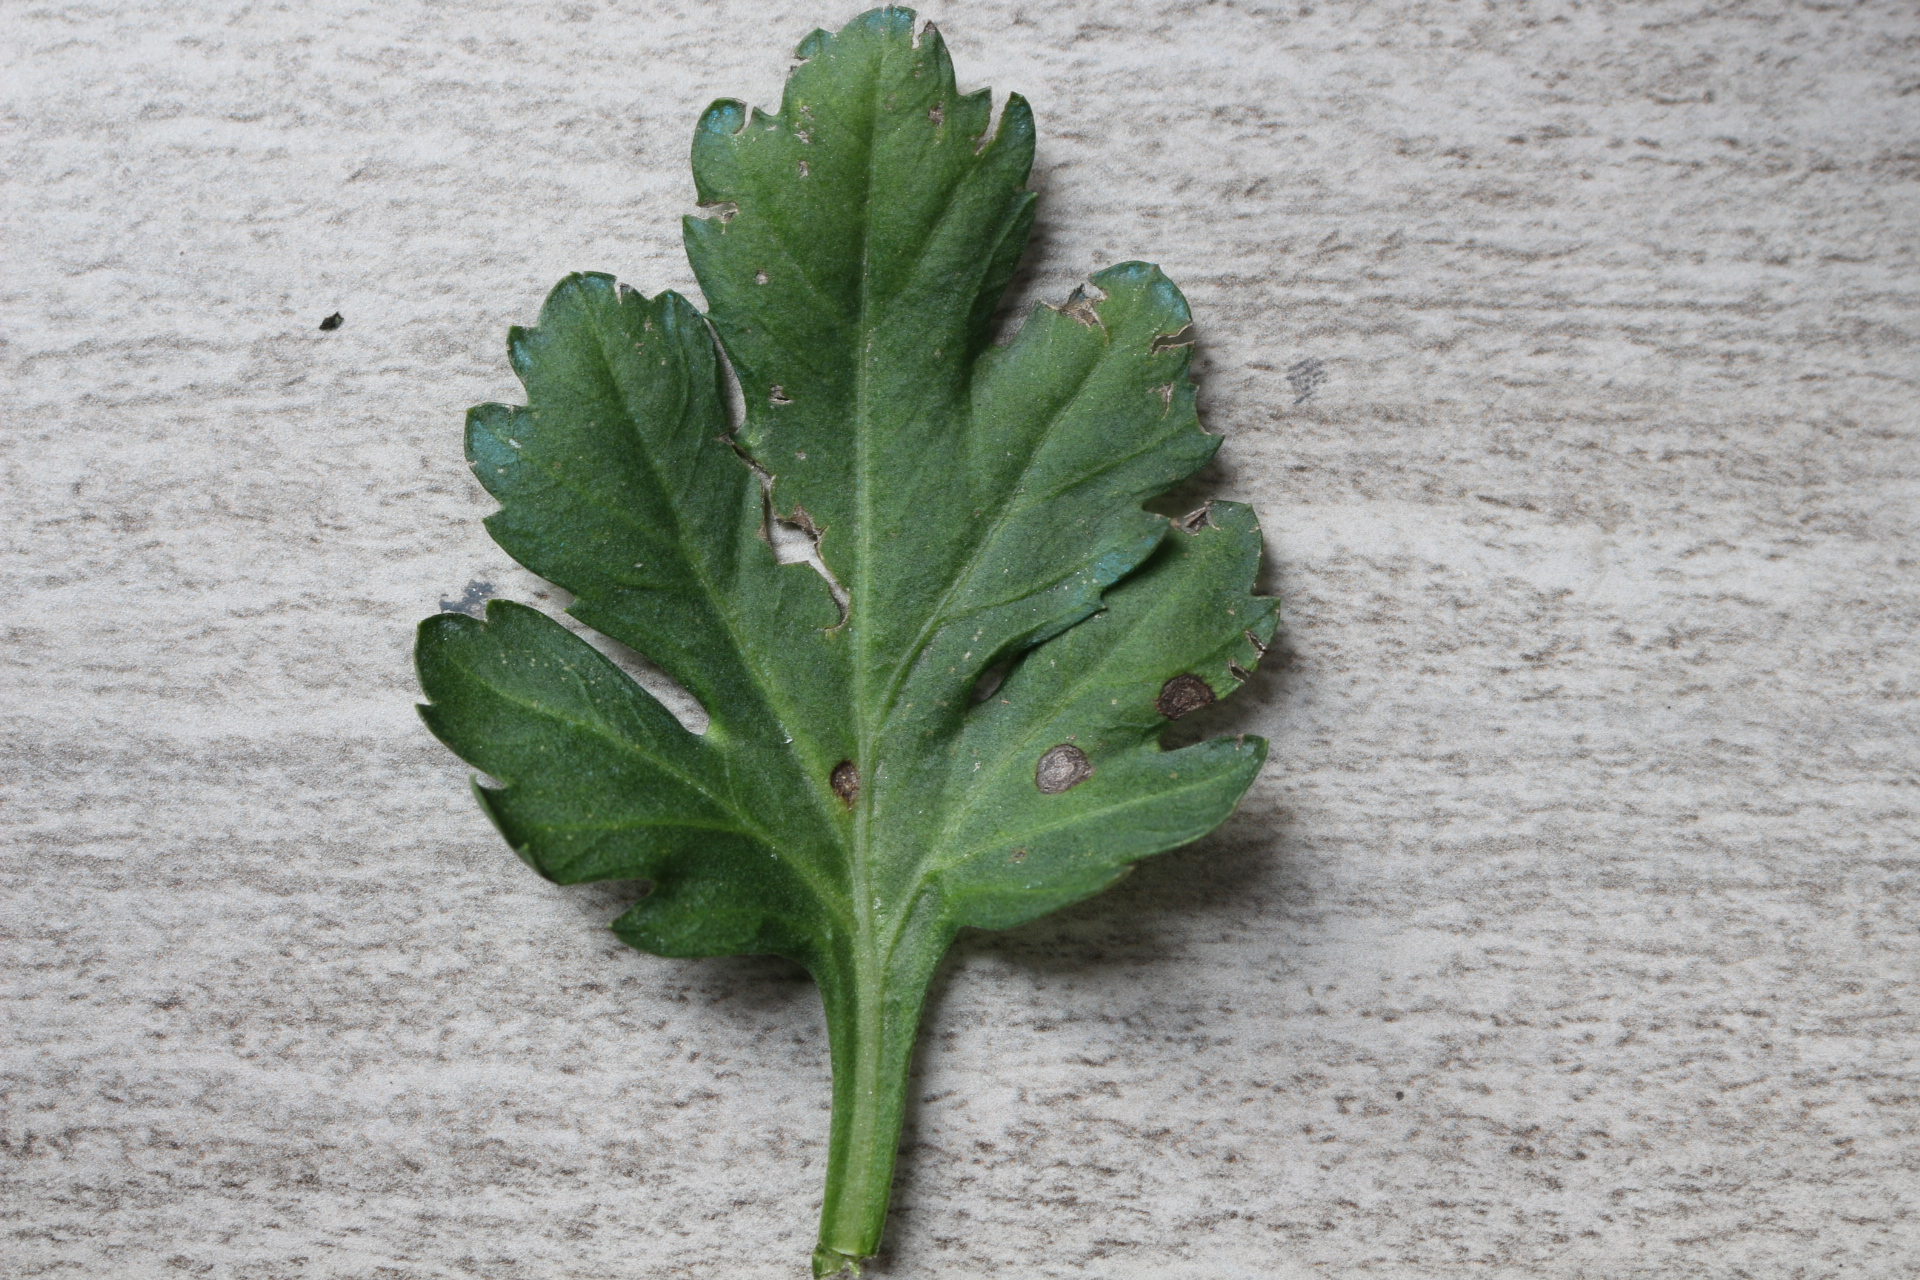namden: (1154, 669, 1226, 729), (1021, 746, 1097, 794), (819, 754, 866, 811)
